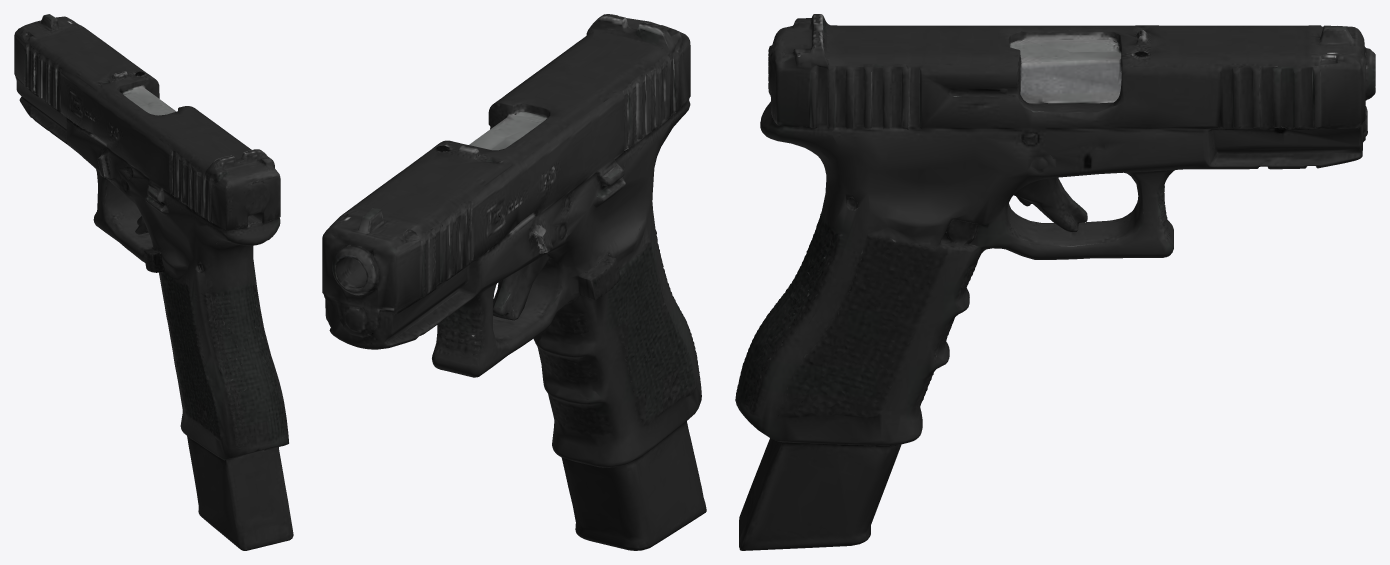
The model's file is glock18_style.glb.
3 views of the same model, side by side, from view 1: azimuth 30°, elevation 25°; view 2: azimuth 150°, elevation 25°; view 3: azimuth 270°, elevation 25° (orthographic). The views are drawn at different scales.
Visible parts, largest first — view 1: glock18_style; view 2: glock18_style; view 3: glock18_style.
Boxes of the visible parts, <box> form: glock18_style: <box>14,14,293,550</box>; glock18_style: <box>322,14,706,550</box>; glock18_style: <box>735,14,1375,550</box>.
Bounding box in the file's own units: 0.0434 × 0.2096 × 0.2389.
1 material, 1 textured.
